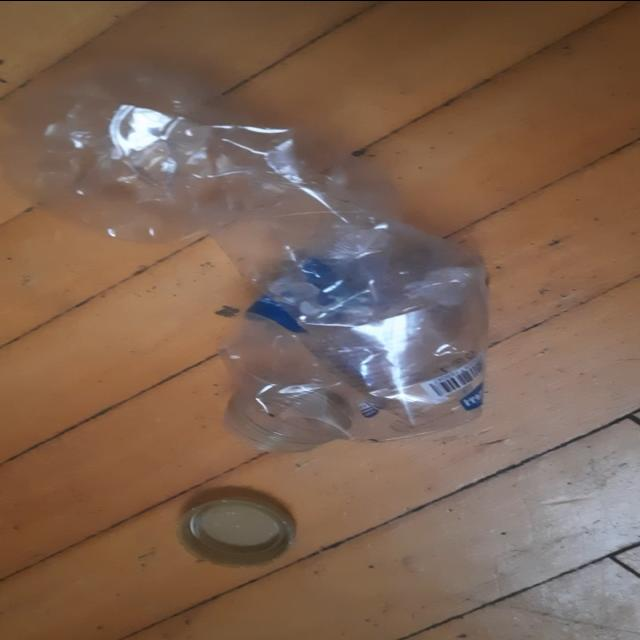Plastic: (19, 99, 490, 441)
